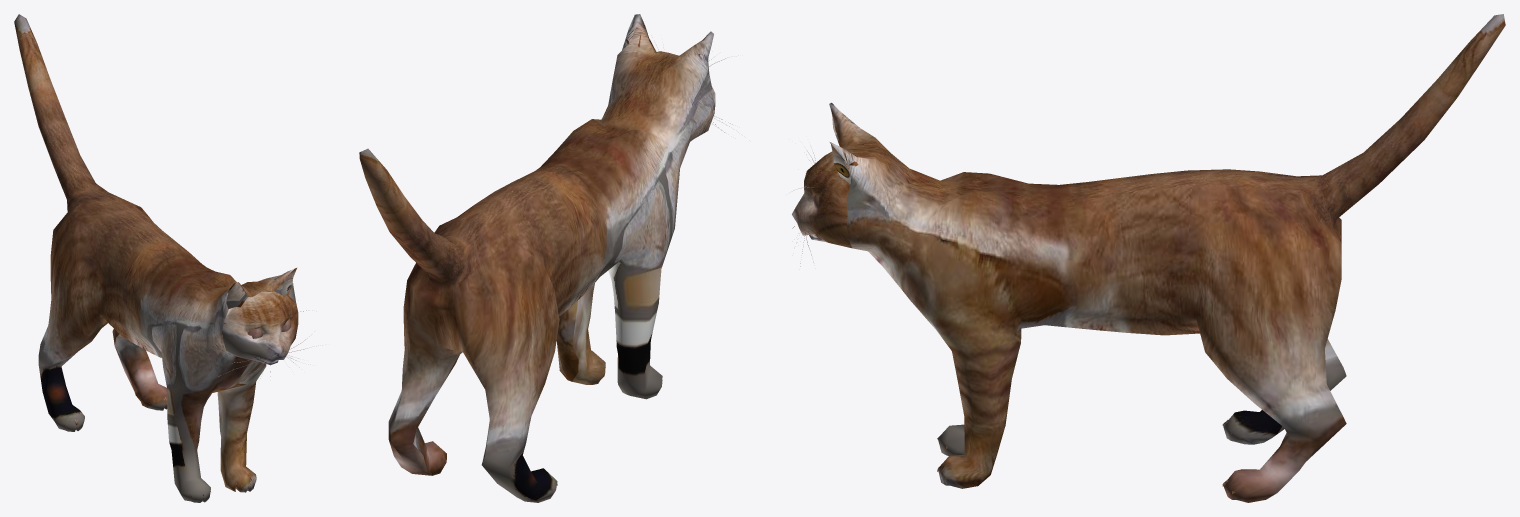
The model's file is Cat2.obj.
3 renders of one model, left to right at view 1: azimuth 30°, elevation 25°; view 2: azimuth 150°, elevation 25°; view 3: azimuth 270°, elevation 25°, orthographic. The views are drawn at different scales.
Size of the model in its own units: 0.3402 by 0.922 by 1.33.
